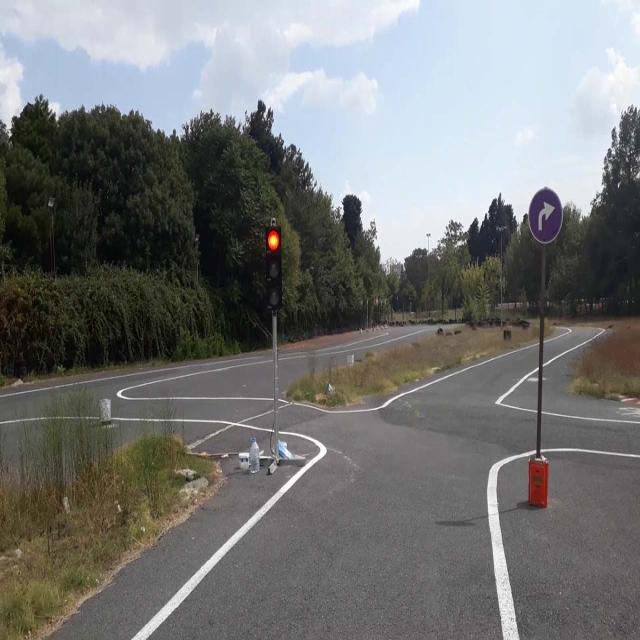kirmizi: (266, 226, 282, 307)
sag: (529, 188, 561, 242)
